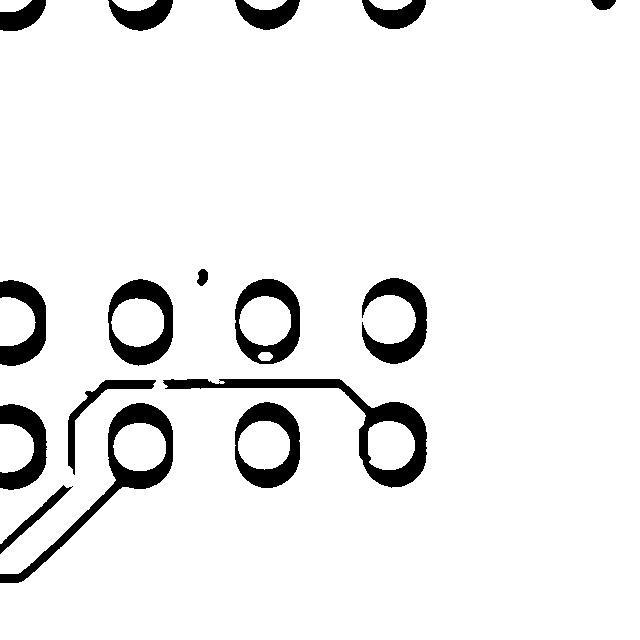copper: (187, 259, 217, 295)
mousebite: (197, 367, 234, 393)
open: (53, 456, 86, 497), (142, 368, 177, 399)
pin-hole: (248, 342, 282, 370)
short: (349, 415, 380, 472)
spur: (75, 381, 105, 407)
